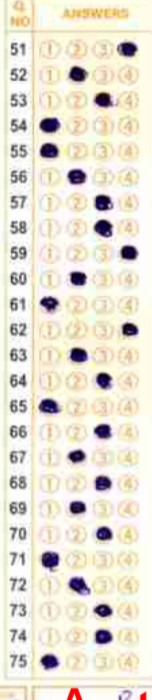filled circles: (69, 577, 90, 594), (40, 117, 61, 133), (94, 219, 112, 237), (117, 41, 137, 57), (94, 92, 115, 107), (39, 398, 60, 413), (41, 551, 58, 569), (67, 168, 86, 184), (95, 194, 113, 210), (41, 653, 58, 669), (40, 296, 58, 311), (69, 66, 87, 81), (96, 372, 112, 388), (120, 245, 137, 260), (94, 423, 111, 438), (40, 143, 58, 157), (95, 475, 111, 490), (96, 526, 112, 541), (70, 348, 87, 362), (95, 629, 112, 643), (68, 449, 85, 463), (94, 604, 112, 617), (70, 271, 86, 285), (122, 322, 138, 336), (69, 501, 85, 514)
